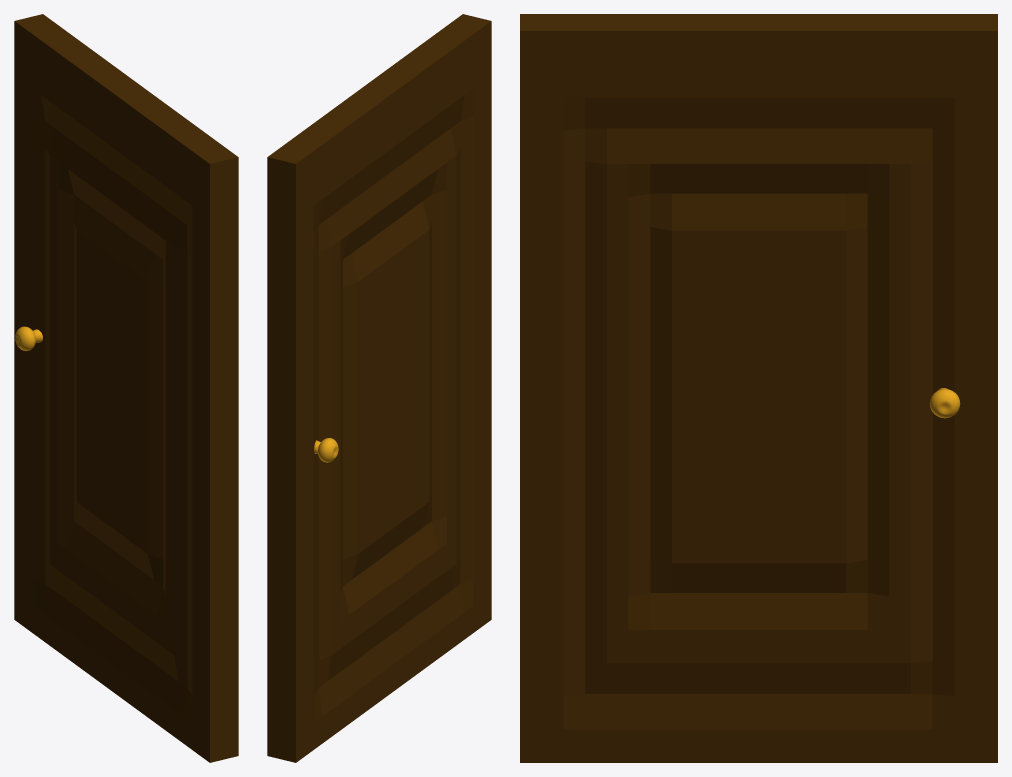
Rendered from outsideDoor 1.fbx.
3 views of the same model, side by side, from view 1: azimuth 30°, elevation 25°; view 2: azimuth 150°, elevation 25°; view 3: azimuth 270°, elevation 25° (orthographic). The views are drawn at different scales.
Parts seen in each view (by area): view 1: Door.001, Sphere.002; view 2: Door.001, Sphere.002; view 3: Door.001.
Boxes of the visible parts, x1,y1,x2,y2 form: Door.001: (14, 14, 238, 762); Sphere.002: (15, 326, 35, 351); Door.001: (267, 14, 491, 762); Sphere.002: (318, 438, 338, 462); Door.001: (520, 14, 997, 762).
Size of the model in its own units: 221 by 1929 by 1142.
